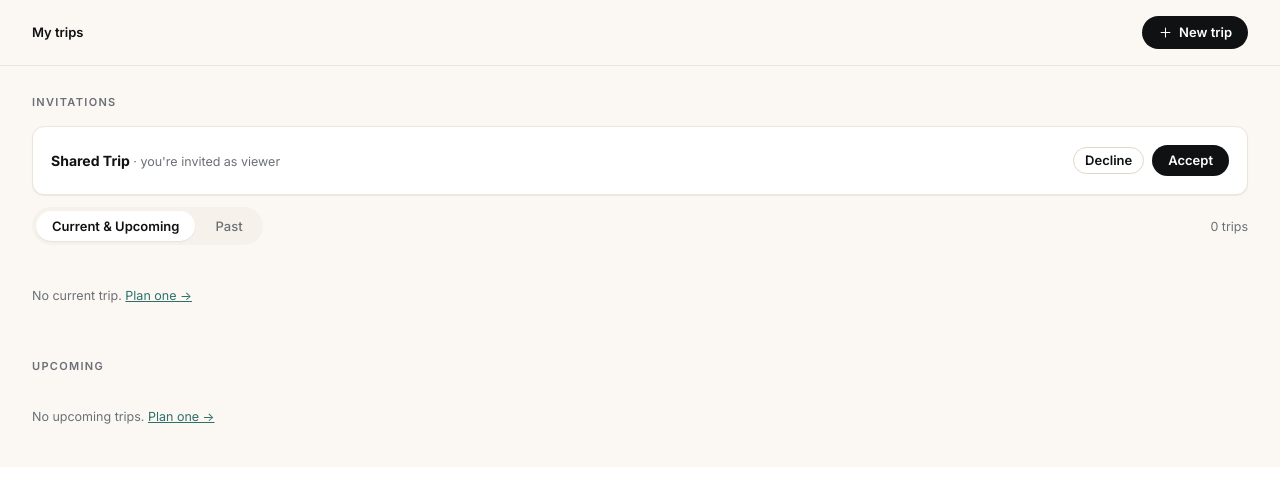
Test: TripsDashboard › declines a pending invitation and clears it from the inbox
Expected: the text "Shared Trip" is shown, [51, 152, 130, 169]
Click the button with aria-label "decline invitation to shared trip" at (1109, 160), box [1073, 147, 1144, 174]
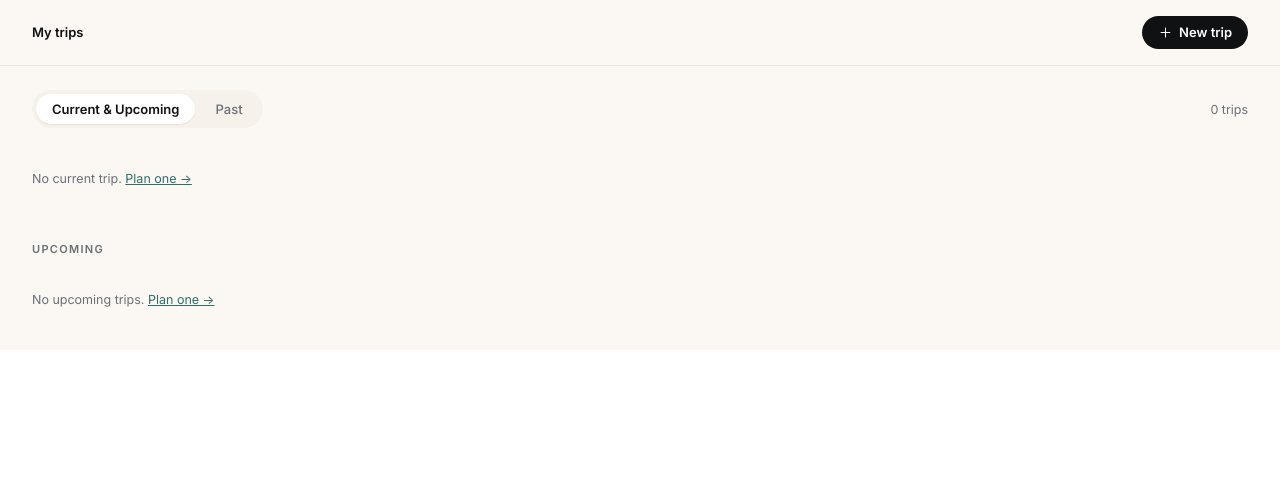
Expected: the text "Shared Trip" is gone
